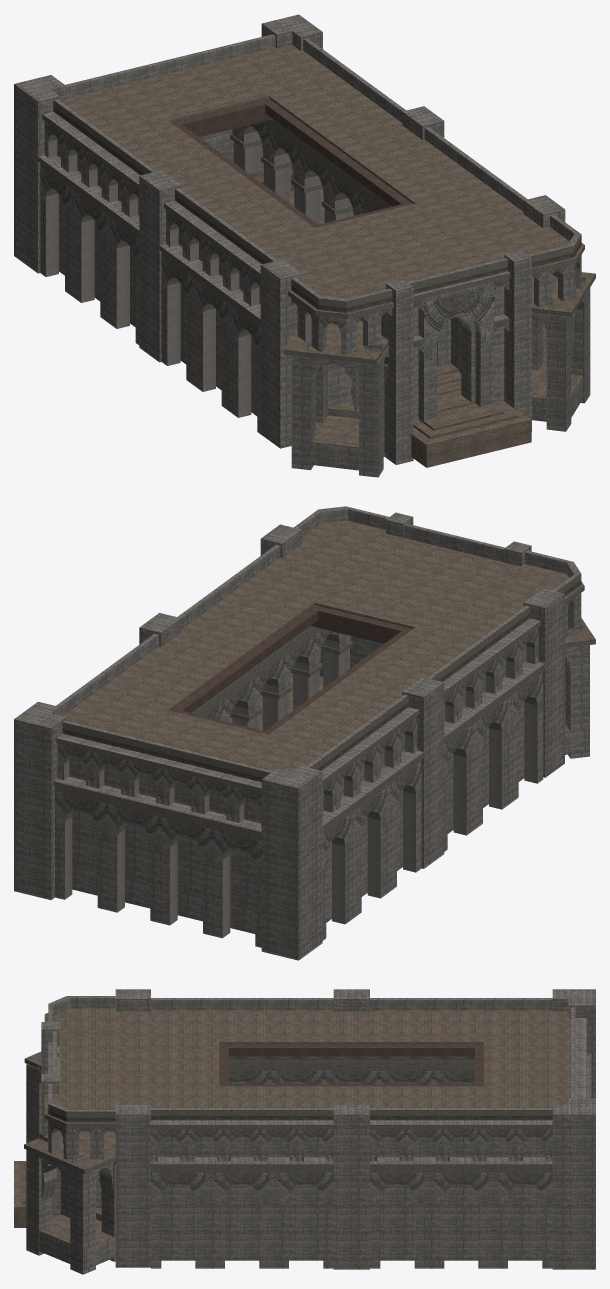
Rendered from buildings_small_greathall.glb.
The picture shows the model from 3 angles, top to bottom: view 1: azimuth 30°, elevation 25°; view 2: azimuth 150°, elevation 25°; view 3: azimuth 270°, elevation 25°; orthographic projection. The views are drawn at different scales.
Parts seen in each view (by area): view 1: greathall; view 2: greathall; view 3: greathall.
Part boxes in pixels (box(x1,y1,x2,y2)): greathall: box(14, 14, 595, 477); greathall: box(14, 506, 595, 960); greathall: box(14, 989, 595, 1274).
Size of the model in its own units: 44.54 by 23.75 by 79.69.
8 materials, 8 textured.
